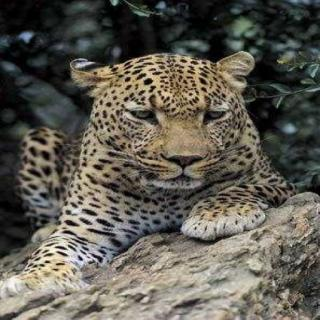Leopard: (41, 19, 316, 289)
